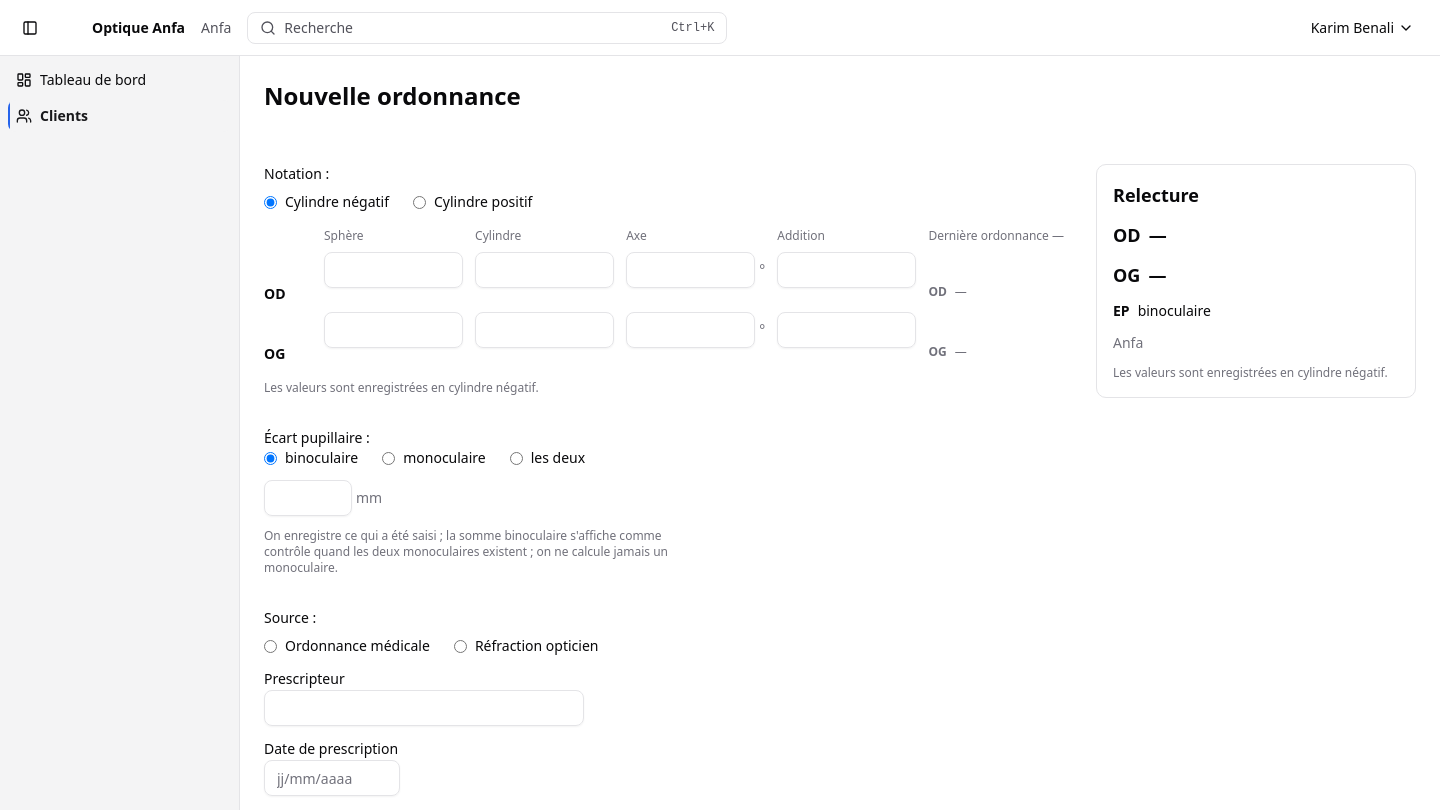
la source, le prescripteur et le magasin (CLIENT-04, CLIENT-05, 20.8, 20.9) › client04_le_prescripteur_n_est_PAS_RENDU_en_refraction_opticien
The image size is (1440, 810).
Click the radio button labelled "Ordonnance médicale" at (270, 646), box [264,640,277,652]
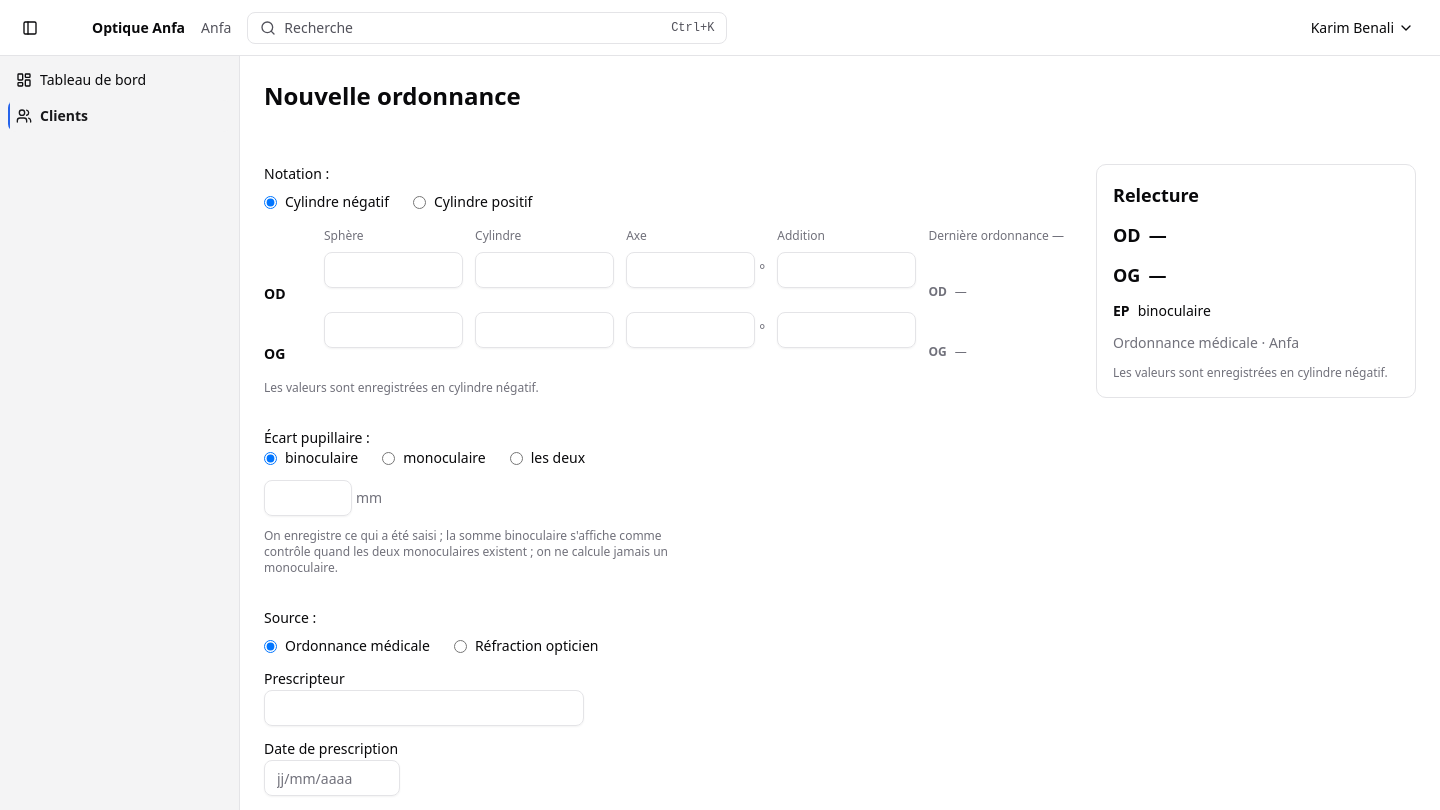
Expected: the field labelled "Prescripteur" is shown, [264,690,584,726]
Click the radio button labelled "Réfraction opticien" at (460, 646), box [454,640,467,652]
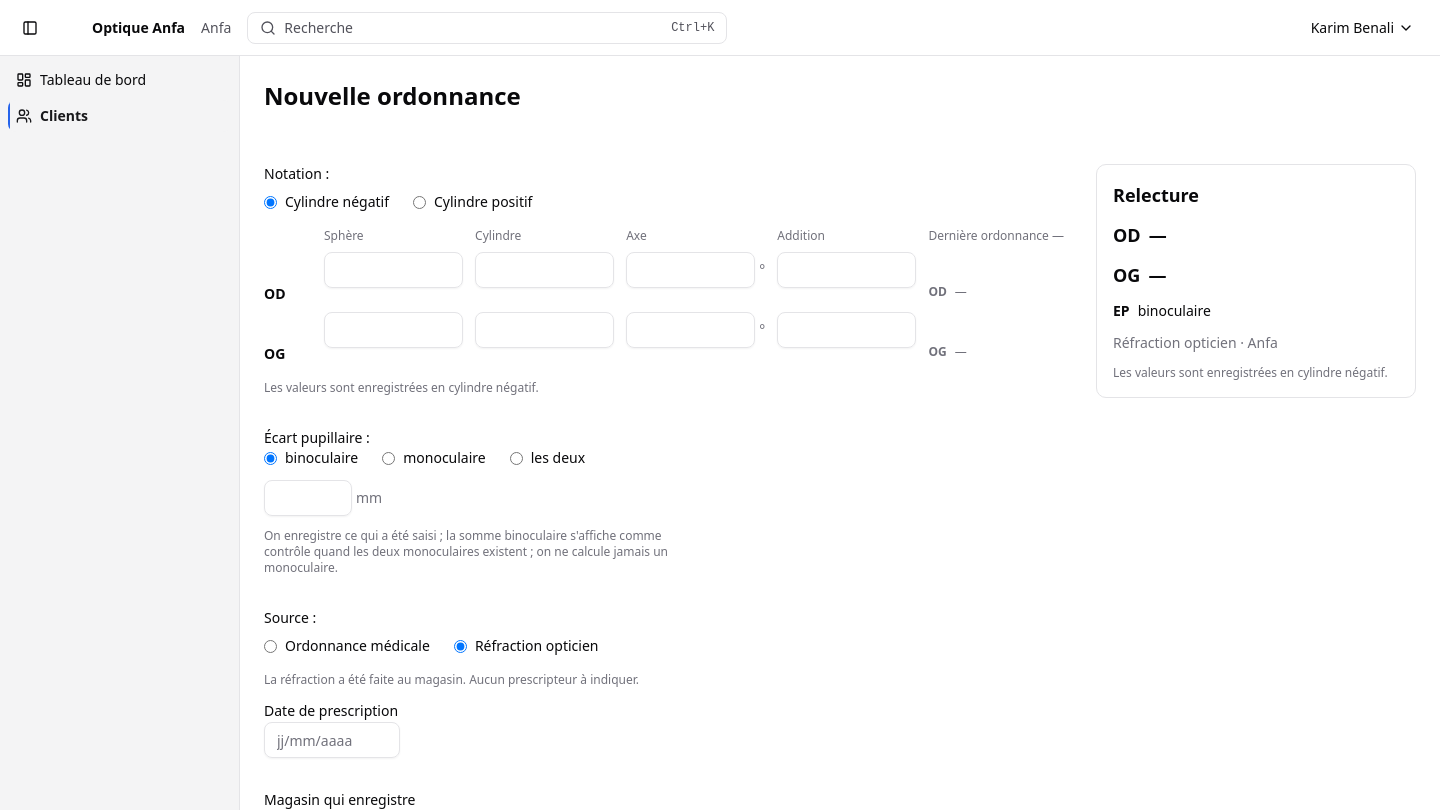
Result: the text "La réfraction a été faite au magasin. Aucun prescripteur à indiquer." is shown at [264,671,639,688]
